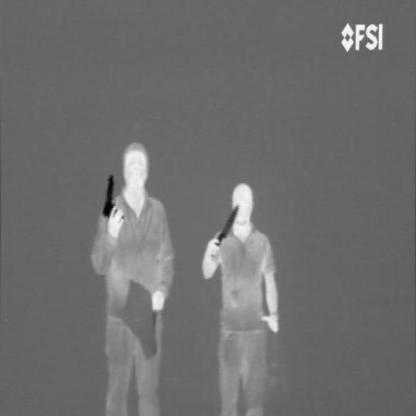weapon: (102, 171, 128, 222)
